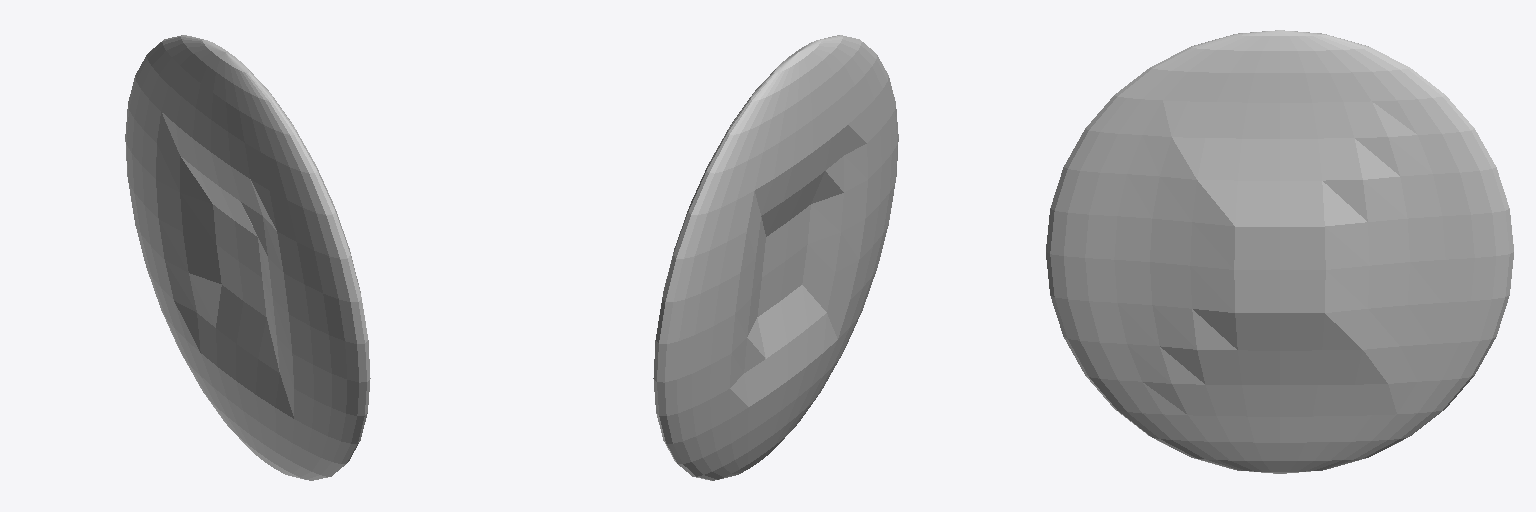
File: shield_000012.obj
The picture shows the model from 3 angles: view 1: azimuth 30°, elevation 25°; view 2: azimuth 150°, elevation 25°; view 3: azimuth 270°, elevation 25°; orthographic projection.
Bounding box in the file's own units: 0.4412 × 1.99 × 2.